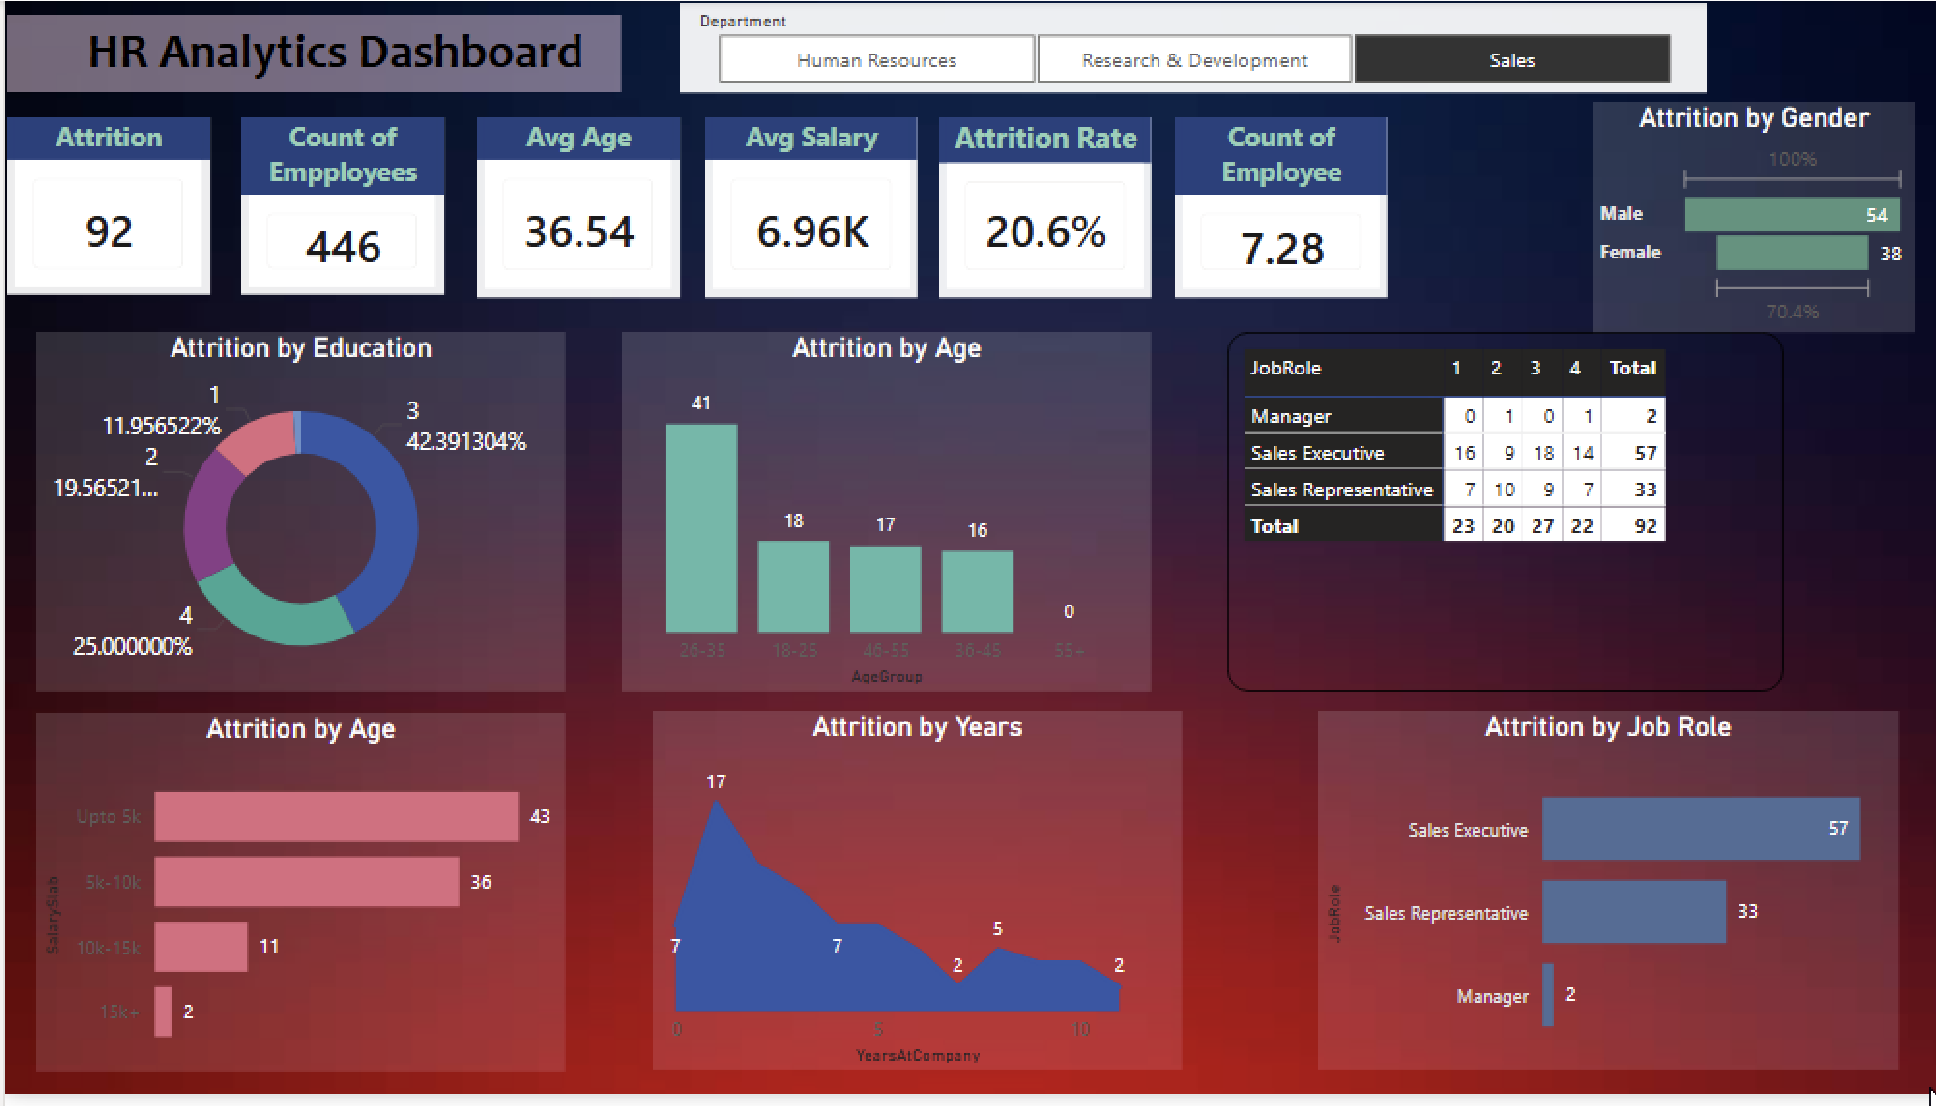

The dashboard page shown, as its layout file describes it:
{"tool":"powerbi","page":{"name":"Page 1","canvas":[1280,720],"ordinal":0},"visuals":[{"type":"cardVisual","title":"Count of Empployees","fields":{"Data":["CountNonNull(HR_Analytics.EmpID)"]},"box":[155.5,76.5,133.9,117.3],"z":0},{"type":"cardVisual","title":"Attrition","fields":{"Data":["Sum(HR_Analytics.Attrition_Count)"]},"box":[1.3,76.5,133.9,117.3],"z":1000},{"type":"cardVisual","title":"Avg Age","fields":{"Data":["Avg(HR_Analytics.Age)"]},"box":[311.1,76.5,133.9,118.6],"z":2000},{"type":"cardVisual","title":"Avg Salary","fields":{"Data":["Avg(HR_Analytics.MonthlyIncome)"]},"box":[461.5,76.5,140.2,118.6],"z":3000},{"type":"cardVisual","title":"Count of Employee","fields":{"Data":["Avg(HR_Analytics.YearsAtCompany)"]},"box":[771.3,76.5,140.2,118.6],"z":4000},{"type":"cardVisual","title":"Attrition Rate","fields":{"Data":["HR_Analytics.AttritionRate"]},"box":[615.8,76.5,140.2,118.6],"z":5000},{"type":"donutChart","title":" Attrition by Education","fields":{"Category":["HR_Analytics.Education"],"Y":["Sum(HR_Analytics.Attrition_Count)"]},"box":[20.4,218,349.3,237.1],"z":6000},{"type":"columnChart","title":" Attrition by Age","fields":{"Category":["HR_Analytics.AgeGroup"],"Y":["Sum(HR_Analytics.Attrition_Count)"]},"box":[406.7,218,349.3,237.1],"z":7000},{"type":"pivotTable","fields":{"Rows":["HR_Analytics.JobRole"],"Columns":["HR_Analytics.JobSatisfaction"],"Values":["Sum(HR_Analytics.Attrition_Count)"]},"box":[805.7,218,367.2,237.1],"z":8000},{"type":"barChart","title":" Attrition by Age","fields":{"Category":["HR_Analytics.SalarySlab"],"Y":["Sum(HR_Analytics.Attrition_Count)"]},"box":[20.4,469.2,349.3,237.1],"z":9000},{"type":"clusteredBarChart","title":" Attrition by Job Role","fields":{"Category":["HR_Analytics.JobRole"],"Y":["Sum(HR_Analytics.Attrition_Count)"]},"box":[865.1,468.5,382.8,237.3],"z":10000},{"type":"areaChart","title":" Attrition by Years","fields":{"Category":["HR_Analytics.YearsAtCompany"],"Y":["Sum(HR_Analytics.Attrition_Count)"]},"box":[427.2,468.5,349.1,237.3],"z":11000},{"type":"funnel","title":" Attrition by Gender","fields":{"Category":["HR_Analytics.Gender"],"Y":["Sum(HR_Analytics.Attrition_Count)"]},"box":[1046.7,66.3,212.9,151.7],"z":12000},{"type":"slicer","fields":{"Values":["HR_Analytics.Department"]},"box":[444.9,1.3,677,58.6],"z":13000},{"type":"textbox","box":[1.3,8.9,405.4,51],"z":14000}]}

Visuals, with their boxes in screenshot pixels (x1, y1, x2, y2), scaled from the page's 1280x720 canvas onto the 1936x1106 screenshot:
"Count of Empployees" cardVisual: [235, 118, 438, 298]
"Attrition" cardVisual: [2, 118, 204, 298]
"Avg Age" cardVisual: [471, 118, 673, 300]
"Avg Salary" cardVisual: [698, 118, 910, 300]
"Count of Employee" cardVisual: [1167, 118, 1379, 300]
"Attrition Rate" cardVisual: [931, 118, 1143, 300]
" Attrition by Education" donutChart: [31, 335, 559, 699]
" Attrition by Age" columnChart: [615, 335, 1143, 699]
pivotTable - HR_Analytics.JobRole x HR_Analytics.JobSatisfaction: [1219, 335, 1774, 699]
" Attrition by Age" barChart: [31, 721, 559, 1085]
" Attrition by Job Role" clusteredBarChart: [1308, 720, 1887, 1084]
" Attrition by Years" areaChart: [646, 720, 1174, 1084]
" Attrition by Gender" funnel: [1583, 102, 1905, 335]
slicer - HR_Analytics.Department: [673, 2, 1697, 92]
textbox: [2, 14, 615, 92]
